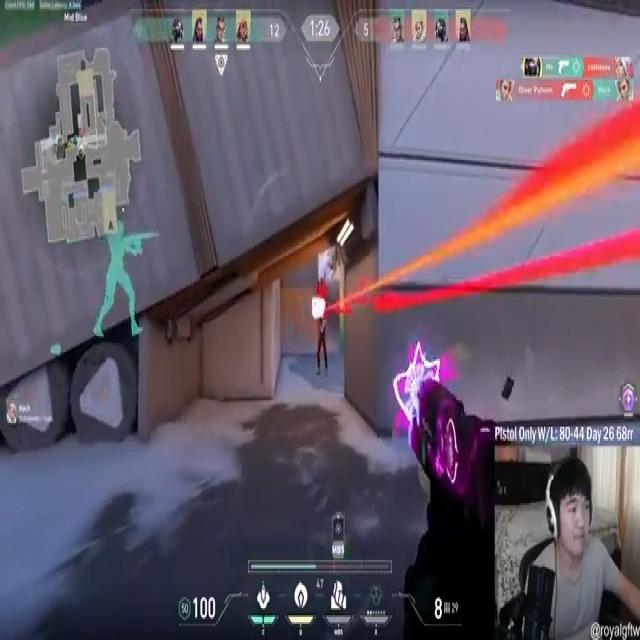gun: (314, 311, 336, 377), (314, 317, 333, 378), (308, 327, 329, 367), (314, 320, 329, 372), (330, 314, 339, 358)
